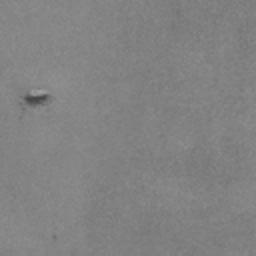Iron sheet ash: (23, 93, 47, 105)
